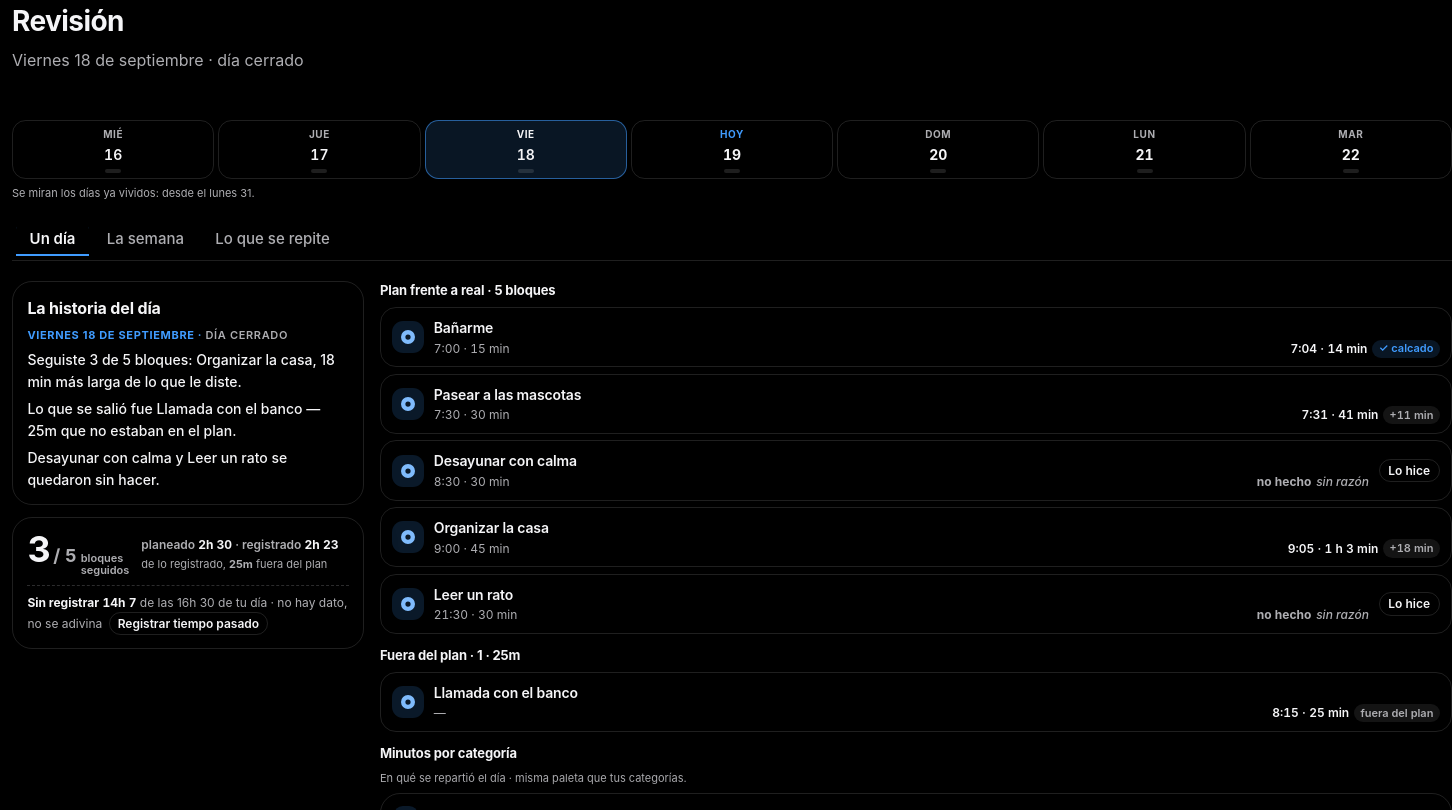
Test: Revisión · Lo que se repite (FEAT-007, tajada 1) › con dos semanas cuenta la adherencia en fracción, y el porcentaje va al lado (65, 66, 67)
Click the tab "Lo que se repite": {"x": 273, "y": 239} [202,221,344,256]
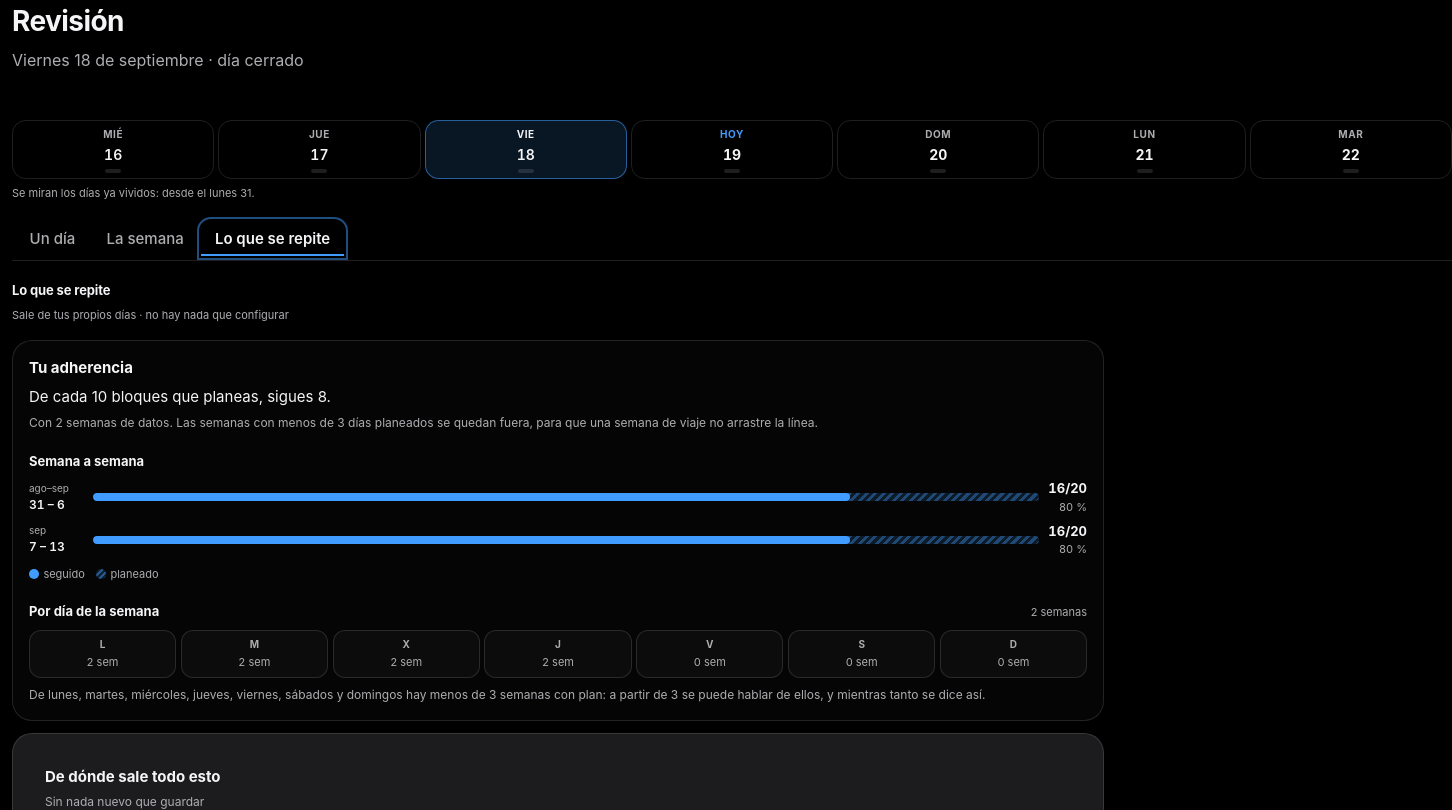
Expected: the text "De cada 10 bloques que planeas, sigues 8." is shown, [29,386,331,406]
Expected: the text "Con 2 semanas de datos. Las semanas con menos de 3 días planeados" is shown, [29,415,818,430]
Expected: the text "16/20" is shown 2 times, [1048,479,1087,499]; [1048,522,1087,541]
